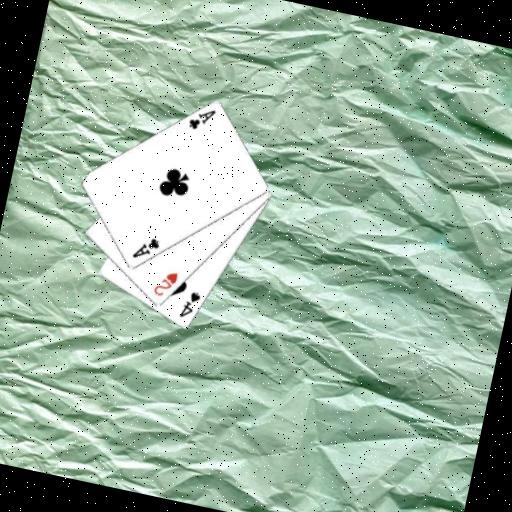2H: (149, 265, 180, 300)
4S: (175, 286, 203, 322)
AC: (128, 231, 162, 264), (184, 102, 218, 135)
